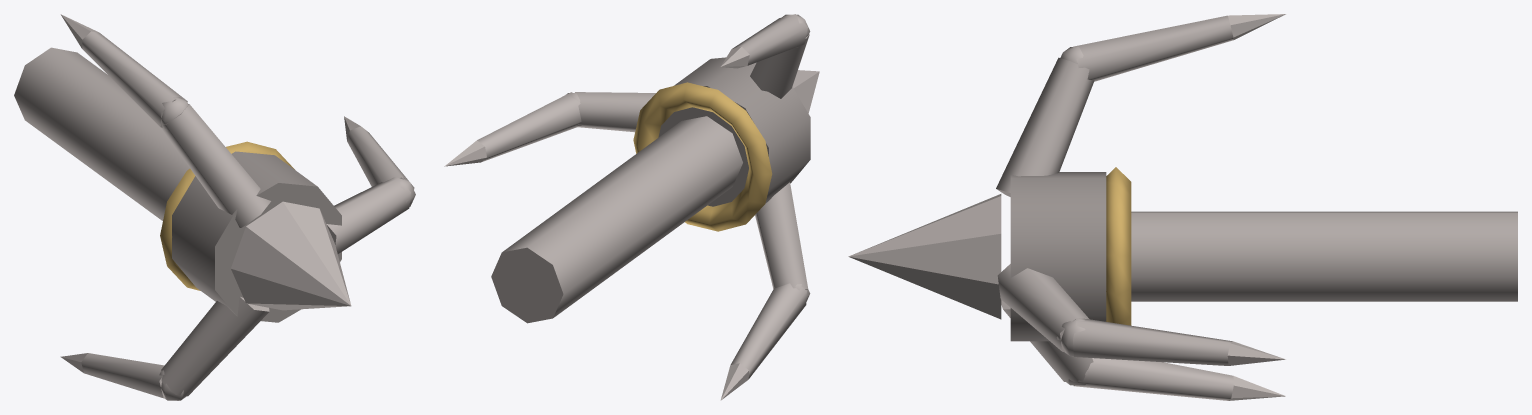
The model's file is hook.glb.
The picture shows the model from 3 angles, left to right: view 1: azimuth 30°, elevation 25°; view 2: azimuth 150°, elevation 25°; view 3: azimuth 270°, elevation 25°; orthographic projection. The views are drawn at different scales.
Visible parts, largest first — view 1: girder*1.4, girder, girder*1.6, girder*1.007, girder*1.011, girder*1.008, girder*1.5, girder*1.012, glow*0.6, girder*1.001, girder*1.009, girder*1.010; view 2: girder*1.4, girder, glow*0.6, girder*1.011, girder*1.001, girder*1.012, girder*1.5, girder*1.008, girder*1.007, girder*1.6, girder*1.003, girder*1.014 (+1 smaller); view 3: girder*1.4, girder, girder*1.6, girder*1.007, girder*1.001, girder*1.008, girder*1.012, glow*0.6, girder*1.5, girder*1.011, girder*1.003, girder*1.010 (+1 smaller).
Boxes of the visible parts, bbox=[...] form: girder*1.4: bbox=[14, 47, 189, 220]; girder: bbox=[172, 151, 341, 322]; girder*1.6: bbox=[231, 201, 351, 310]; girder*1.007: bbox=[161, 104, 270, 227]; girder*1.011: bbox=[161, 297, 269, 396]; girder*1.008: bbox=[82, 31, 187, 127]; girder*1.5: bbox=[326, 178, 410, 253]; girder*1.012: bbox=[81, 353, 178, 400]; glow*0.6: bbox=[160, 141, 294, 290]; girder*1.001: bbox=[347, 126, 414, 189]; girder*1.009: bbox=[161, 97, 188, 131]; girder*1.010: bbox=[60, 14, 98, 48]; girder*1.4: bbox=[491, 116, 742, 323]; girder: bbox=[658, 57, 810, 206]; glow*0.6: bbox=[633, 82, 772, 231]; girder*1.011: bbox=[755, 182, 808, 289]; girder*1.001: bbox=[477, 92, 581, 162]; girder*1.012: bbox=[730, 283, 806, 378]; girder*1.5: bbox=[575, 92, 655, 132]; girder*1.008: bbox=[732, 14, 807, 65]; girder*1.007: bbox=[750, 33, 809, 98]; girder*1.6: bbox=[792, 70, 819, 113]; girder*1.003: bbox=[444, 140, 486, 166]; girder*1.014: bbox=[720, 363, 748, 400]; girder*1.4: bbox=[1131, 211, 1517, 301]; girder: bbox=[1010, 172, 1106, 341]; girder*1.6: bbox=[848, 194, 1001, 319]; girder*1.007: bbox=[996, 57, 1094, 196]; girder*1.001: bbox=[1073, 319, 1232, 365]; girder*1.008: bbox=[1073, 15, 1233, 81]; girder*1.012: bbox=[1073, 358, 1233, 400]; glow*0.6: bbox=[1106, 167, 1131, 325]; girder*1.5: bbox=[997, 264, 1089, 352]; girder*1.011: bbox=[1001, 300, 1093, 381]; girder*1.003: bbox=[1227, 341, 1285, 365]; girder*1.010: bbox=[1228, 14, 1285, 39].
Size of the model in its own units: 0.1937 by 0.2214 by 0.35.
